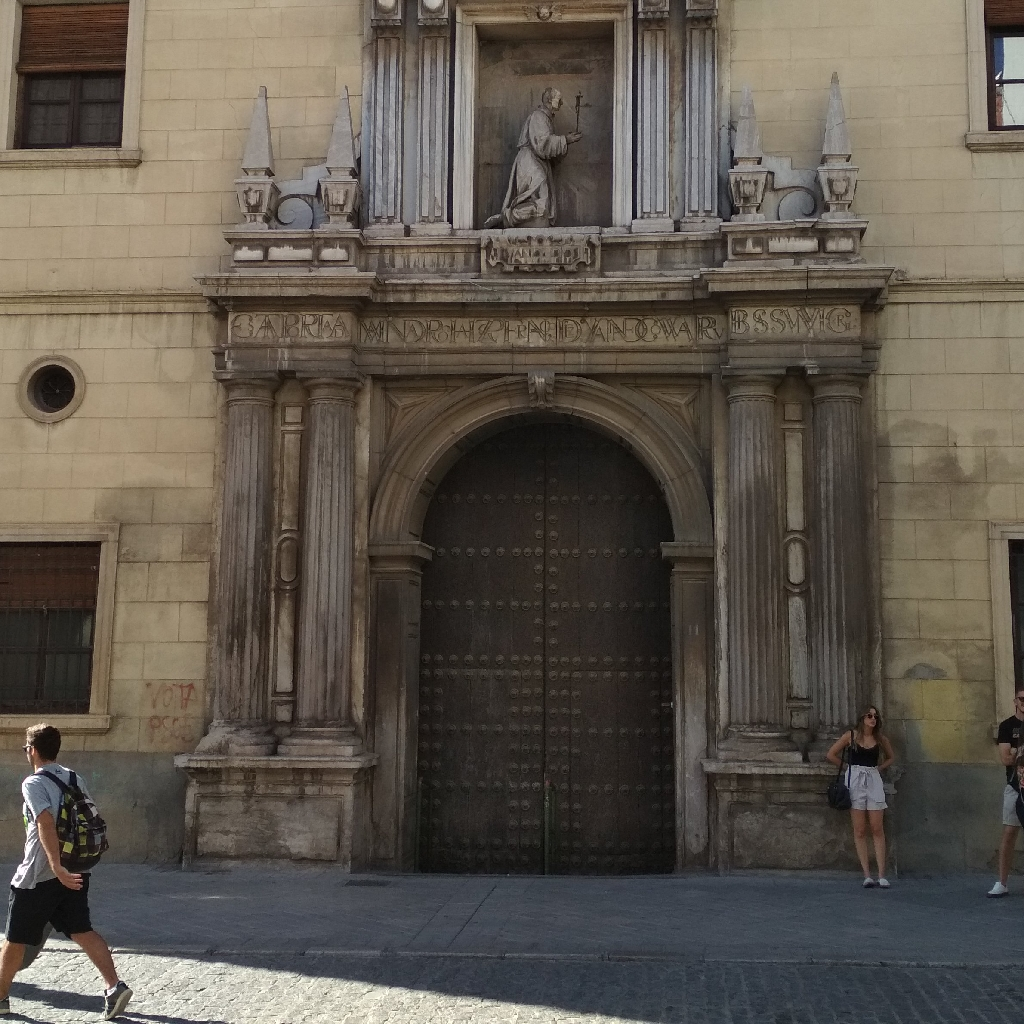arco-medio-punto: (401, 397, 691, 587)
ojo-de-buey: (19, 351, 91, 422)
vano-adintelado: (448, 1, 636, 236), (1, 517, 118, 723), (1, 1, 145, 155)
